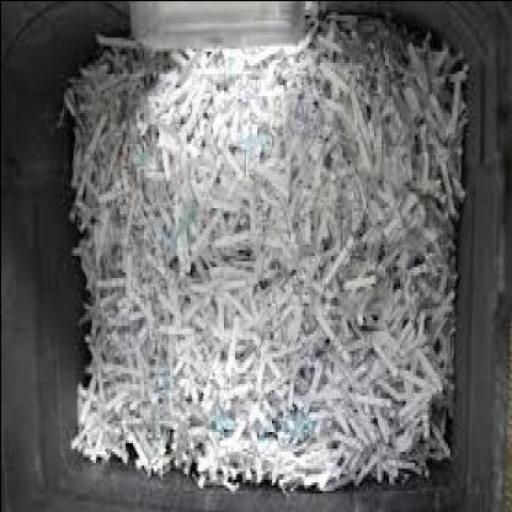paper: (59, 17, 468, 489)
